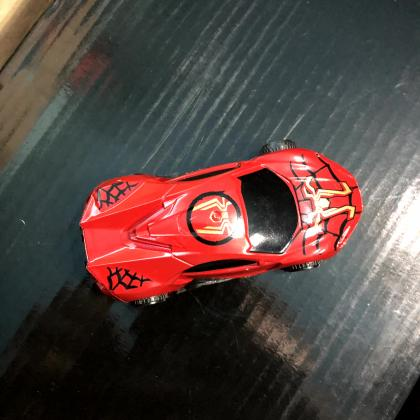Car: (79, 148, 364, 304)
